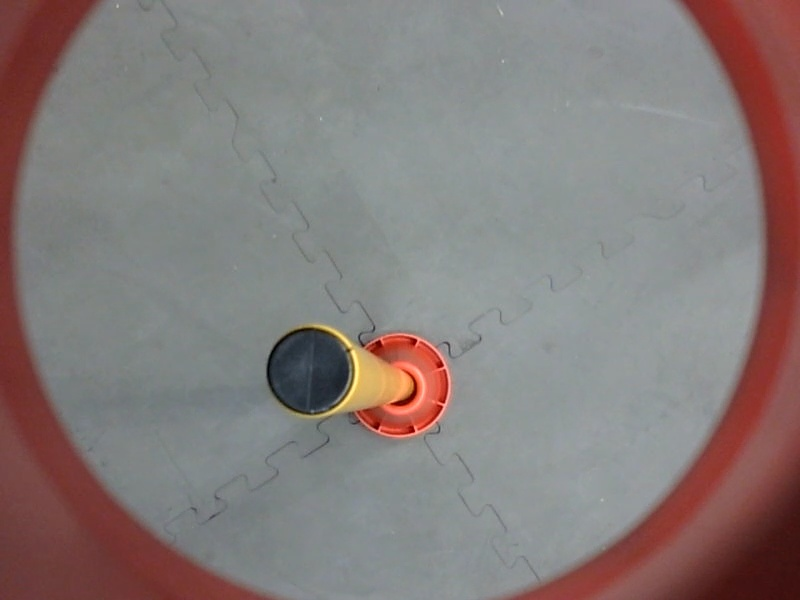tip: (261, 315, 358, 423)
